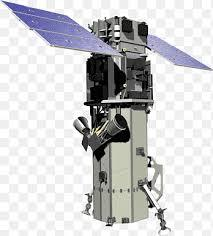body: (83, 16, 155, 225)
solar: (2, 0, 124, 58), (142, 34, 213, 71)
thruster: (104, 112, 128, 143), (72, 116, 93, 137), (80, 196, 93, 216), (139, 150, 146, 157)
